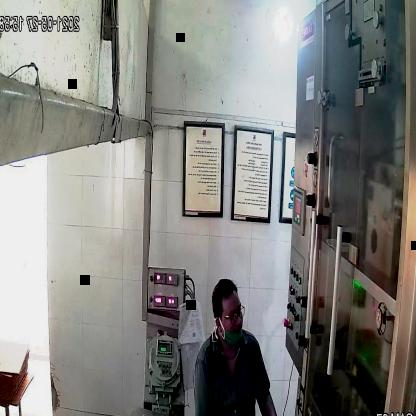goggles: (212, 301, 250, 326)
